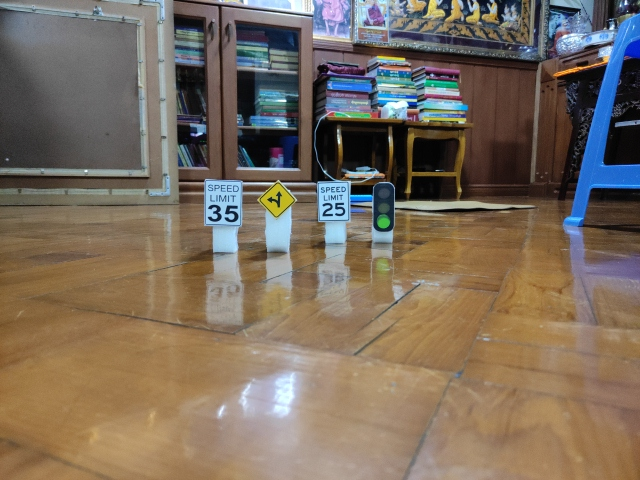Green Traffic Light: (373, 181, 396, 232)
Speed Limit 25: (317, 181, 351, 221)
Speed Limit 35: (203, 178, 242, 225)
Straight Or Left Sign: (259, 180, 298, 219)
